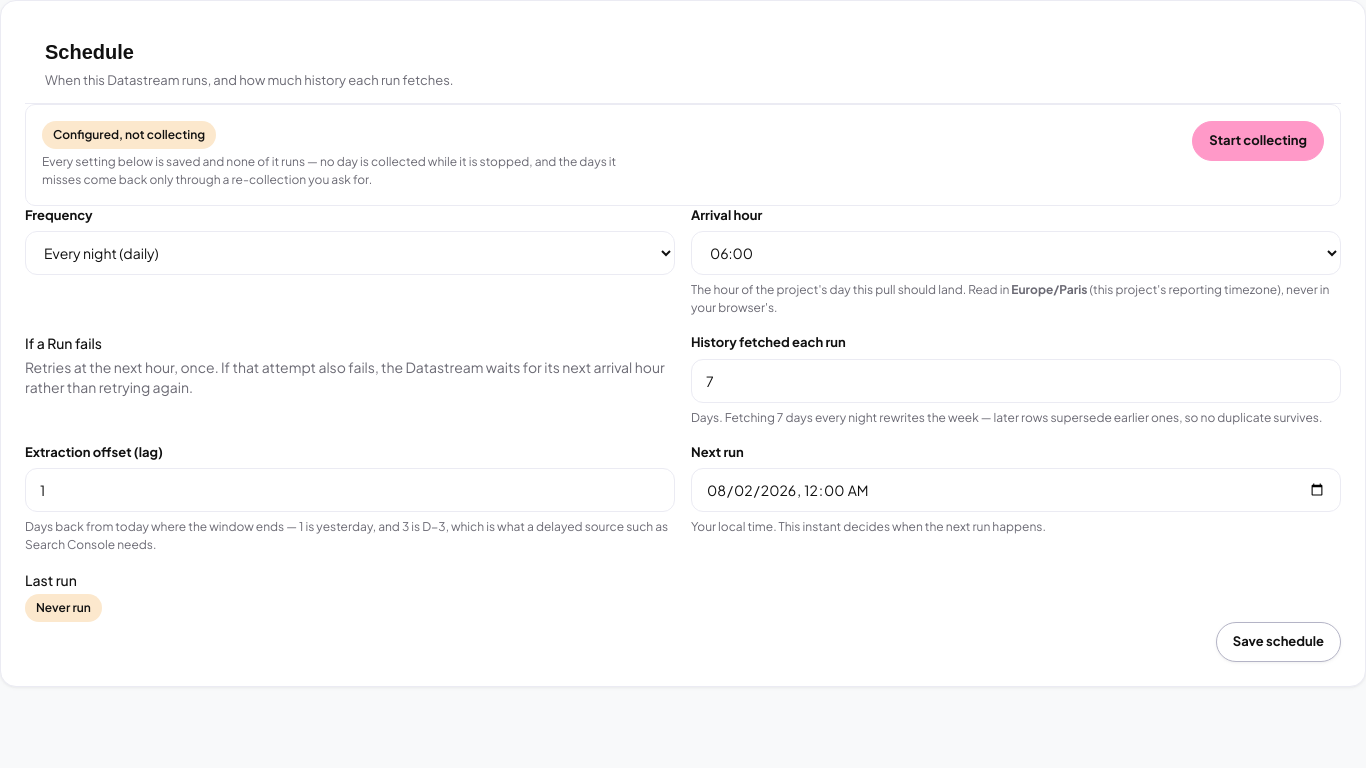
SchedulePanel › names what starting spends before it starts, and cancelling starts nothing
This screenshot has width=1366, height=768.
Step 1. Click the button with test id "schedule-arm" → (1258, 140), box [1192,120,1324,160]
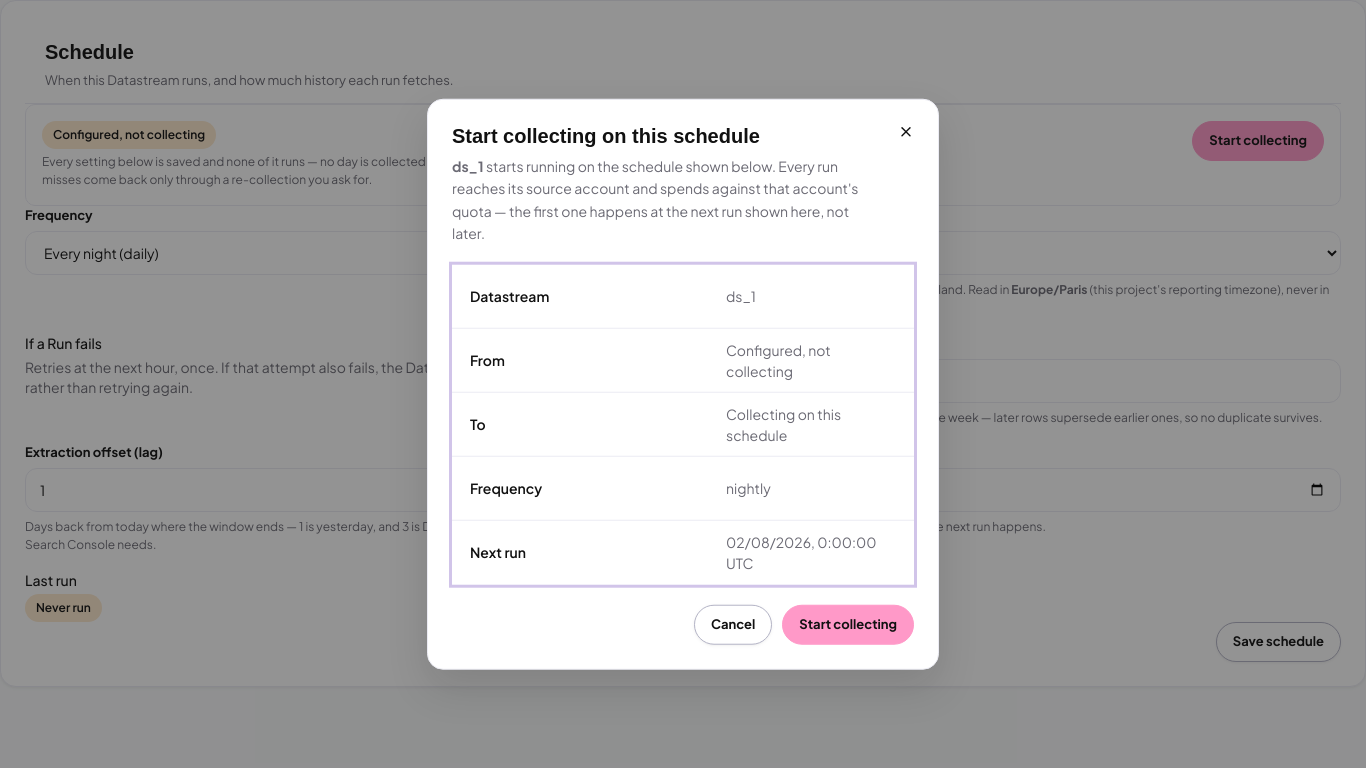
Result: the dialog with test id "schedule-arm-confirm" shows "ds_1" at [452,157,484,175]
Result: the dialog with test id "schedule-arm-confirm" shows "source account" at [452,157,858,242]
Step 2. Click the button with test id "schedule-arm-confirm-cancel" → (733, 624), box [694,604,772,644]
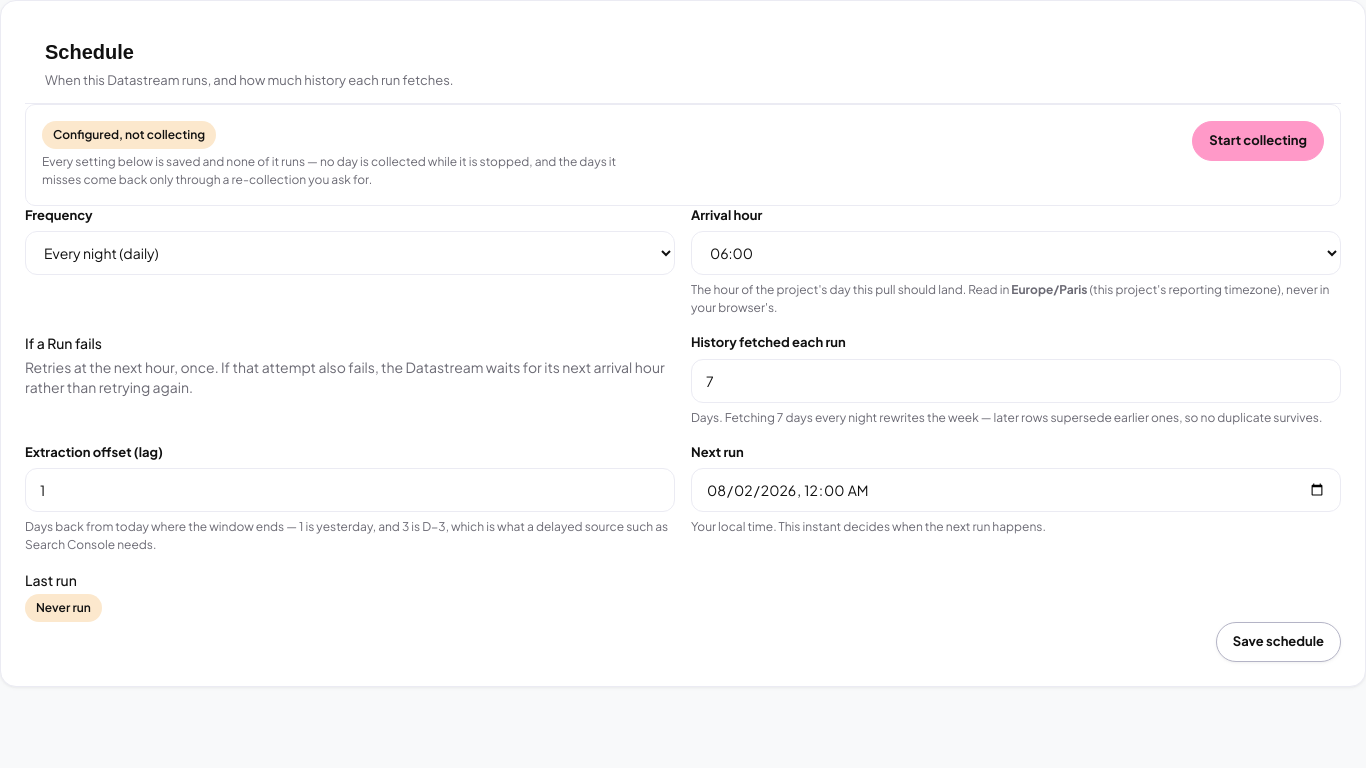
Result: the dialog with test id "schedule-arm-confirm" is gone
